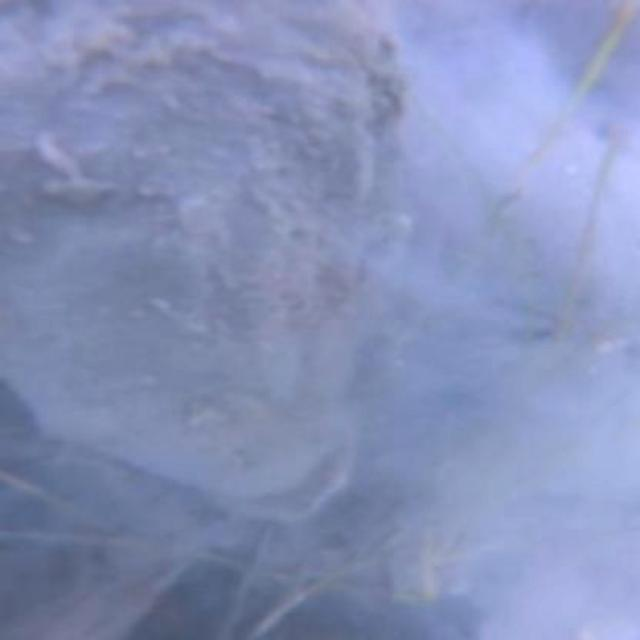Oyster-Open: (0, 0, 418, 528)
